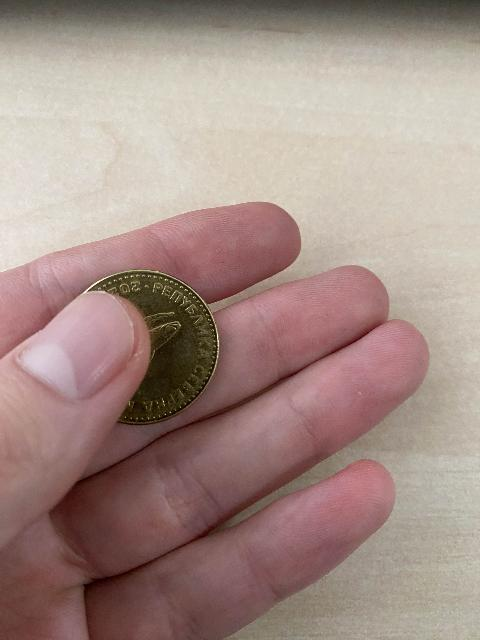2_coin: (87, 270, 218, 423)
